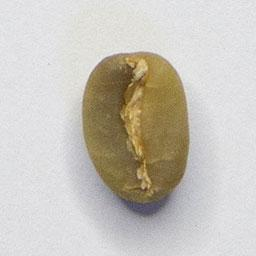premium: (78, 48, 192, 208)
